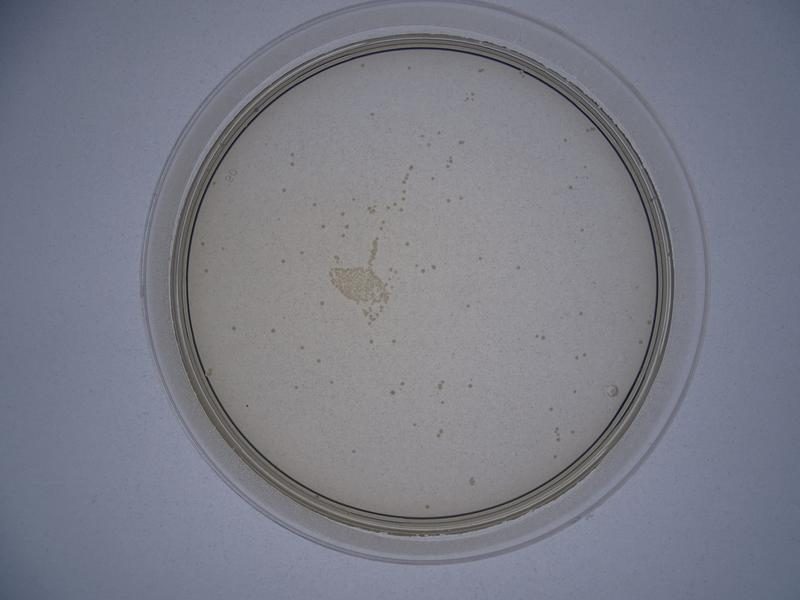colony: (408, 419, 421, 432), (317, 299, 328, 311), (227, 323, 238, 335), (366, 109, 377, 121), (456, 136, 467, 147), (461, 301, 474, 310), (514, 264, 525, 274), (577, 225, 588, 235), (565, 182, 575, 193), (276, 184, 288, 193), (422, 501, 432, 511), (577, 309, 586, 319), (560, 136, 570, 145), (403, 62, 413, 71), (403, 238, 412, 248), (348, 193, 357, 203), (442, 197, 452, 205), (475, 254, 485, 262), (390, 338, 399, 346), (366, 338, 375, 346), (269, 327, 277, 336), (349, 445, 358, 453), (326, 379, 338, 385), (387, 390, 397, 397), (279, 256, 287, 264), (299, 342, 304, 352)
